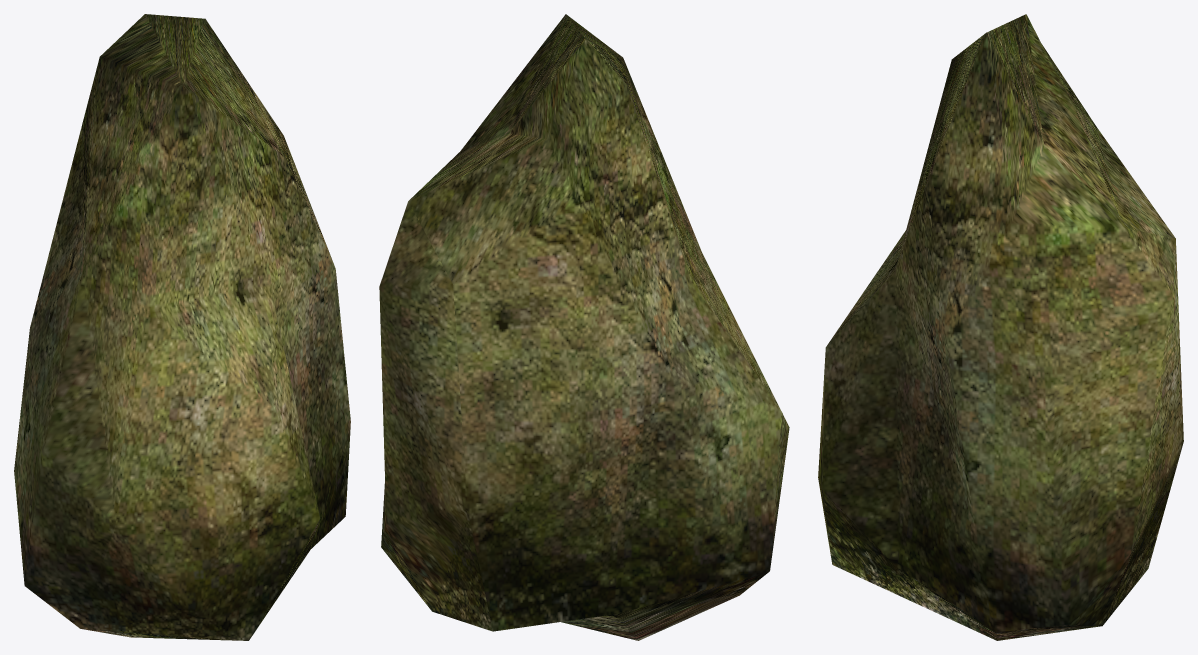
The model's file is rock_endr_mossyrock_lg_l2.fbx.
The picture shows the model from 3 angles, left to right: view 1: azimuth 30°, elevation 25°; view 2: azimuth 150°, elevation 25°; view 3: azimuth 270°, elevation 25°; orthographic projection. The views are drawn at different scales.
Parts seen in each view (by area): view 1: mesh_node; view 2: mesh_node; view 3: mesh_node.
Boxes of the visible parts, x1,y1,x2,y2 form: mesh_node: (14,14,350,640); mesh_node: (379,14,789,640); mesh_node: (818,14,1183,640).
Size of the model in its own units: 1.62 by 2.77 by 1.55.
